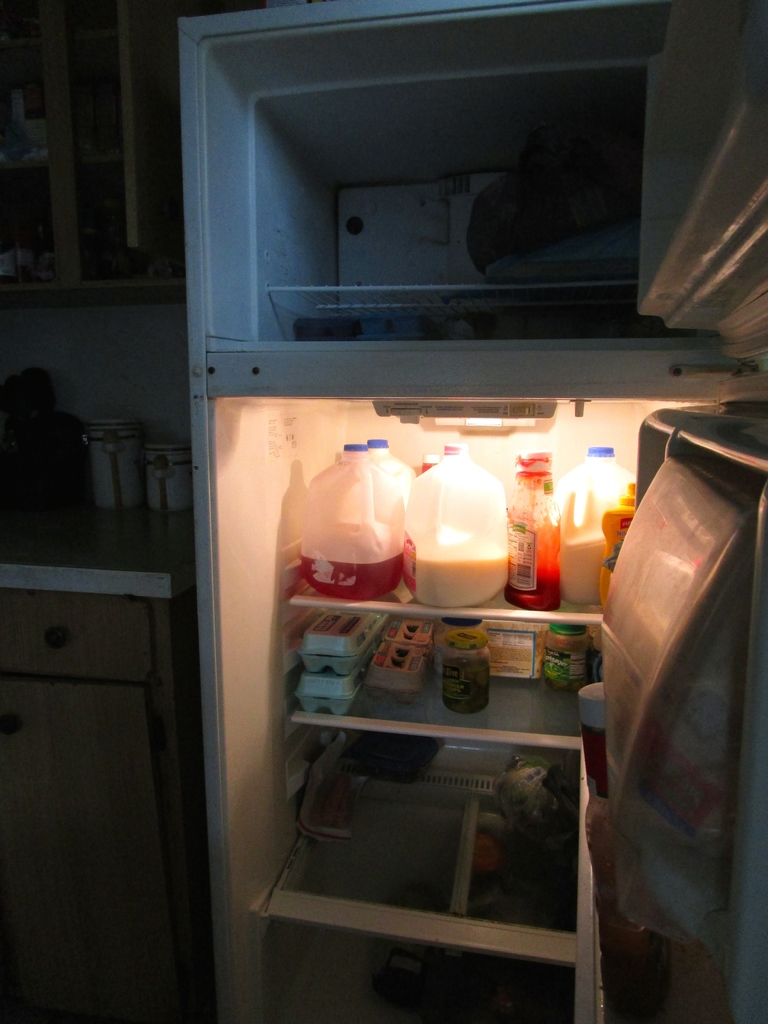cabinet door: (3, 686, 159, 977), (13, 599, 150, 670)
handle: (41, 627, 69, 656), (1, 703, 18, 741)
refrigerator door: (656, 421, 768, 1000), (666, 60, 768, 329)
